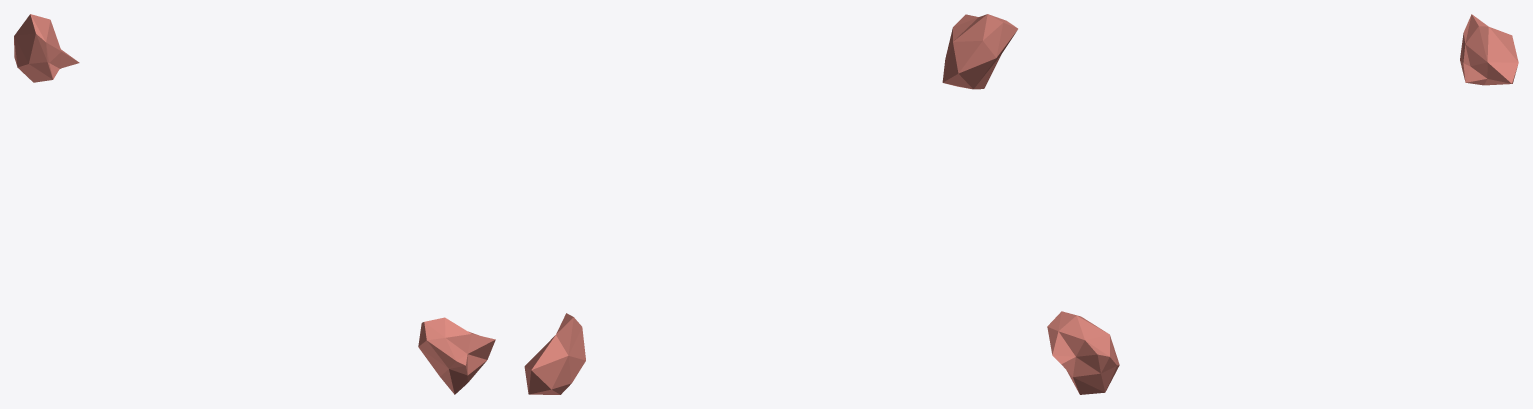
3 renders of one model, left to right at view 1: azimuth 30°, elevation 25°; view 2: azimuth 150°, elevation 25°; view 3: azimuth 330°, elevation 25°, orthographic. The views are drawn at different scales.
Visible parts, largest first — view 1: 914.obj; view 2: 914.obj; view 3: 914.obj.
Boxes of the visible parts, left/top/right/bottom form: 914.obj: left=14, top=14, right=495, bottom=394; 914.obj: left=524, top=14, right=1017, bottom=394; 914.obj: left=1047, top=14, right=1518, bottom=394.
Size of the model in its own units: 91.49 by 113 by 1115.
